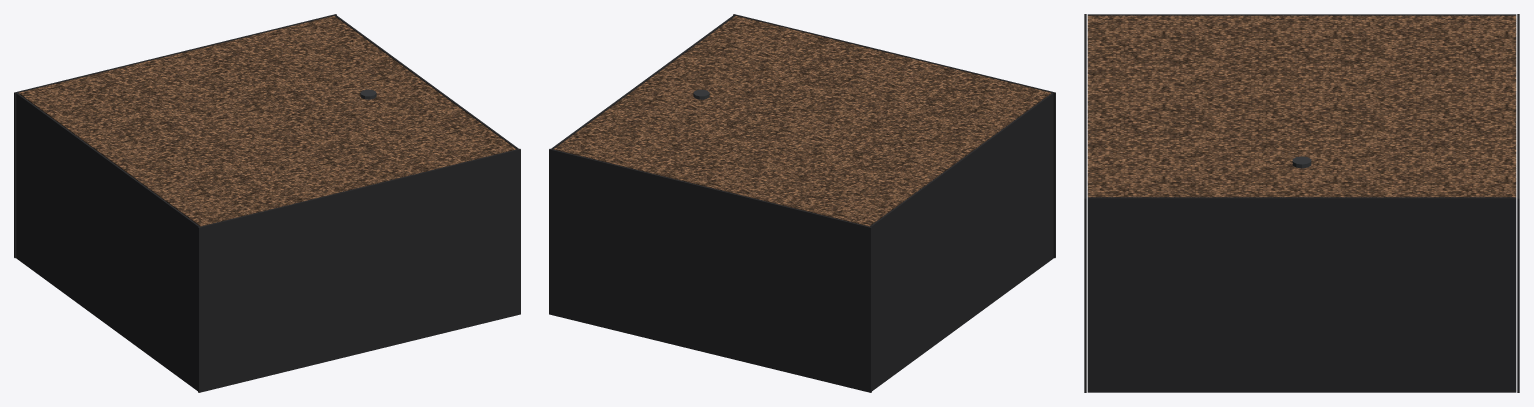
3 views of the same model, side by side, from view 1: azimuth 30°, elevation 25°; view 2: azimuth 150°, elevation 25°; view 3: azimuth 270°, elevation 25° (orthographic). The views are drawn at different scales.
Parts seen in each view (by area): view 1: baseOffset=-1;depth=2;height=1;material=soil;power=;serviceC (×2); view 2: baseOffset=-1;depth=2;height=1;material=soil;power=;serviceC (×2); view 3: baseOffset=-1;depth=2;height=1;material=soil;power=;serviceC (×2).
Part boxes in pixels (x1,y1,x2,y2): baseOffset=-1;depth=2;height=1;material=soil;power=;serviceC (×2): [14, 14, 520, 392]; baseOffset=-1;depth=2;height=1;material=soil;power=;serviceC (×2): [549, 14, 1055, 392]; baseOffset=-1;depth=2;height=1;material=soil;power=;serviceC (×2): [1084, 14, 1519, 392].
Bounding box in the file's own units: 2.04 × 2.03 × 1.02.
Materials: 4 (2 with a texture image).
